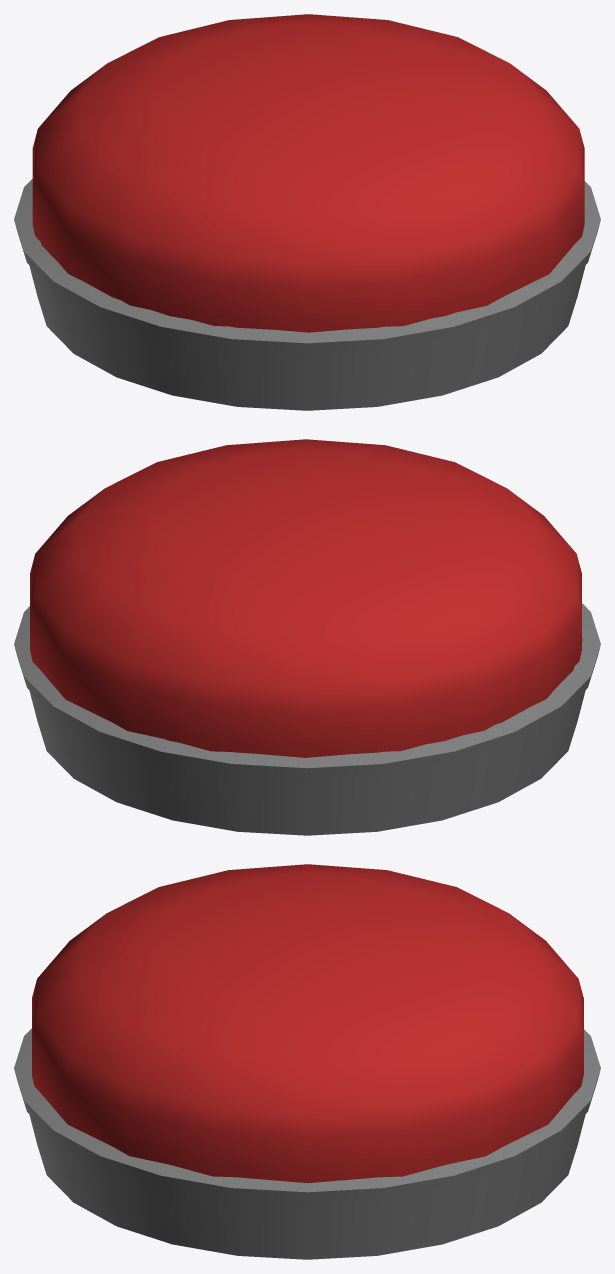
The model's file is SM_spices_market_02.fbx.
3 views of the same model, one above another, from view 1: azimuth 30°, elevation 25°; view 2: azimuth 150°, elevation 25°; view 3: azimuth 270°, elevation 25° (orthographic).
Parts seen in each view (by area): view 1: Object32628; view 2: Object32628; view 3: Object32628.
Part boxes in pixels (x1,y1,x2,y2): Object32628: [14, 14, 600, 410]; Object32628: [14, 439, 600, 835]; Object32628: [14, 864, 600, 1259].
Bounding box in the file's own units: 37.59 × 15.38 × 37.59.
